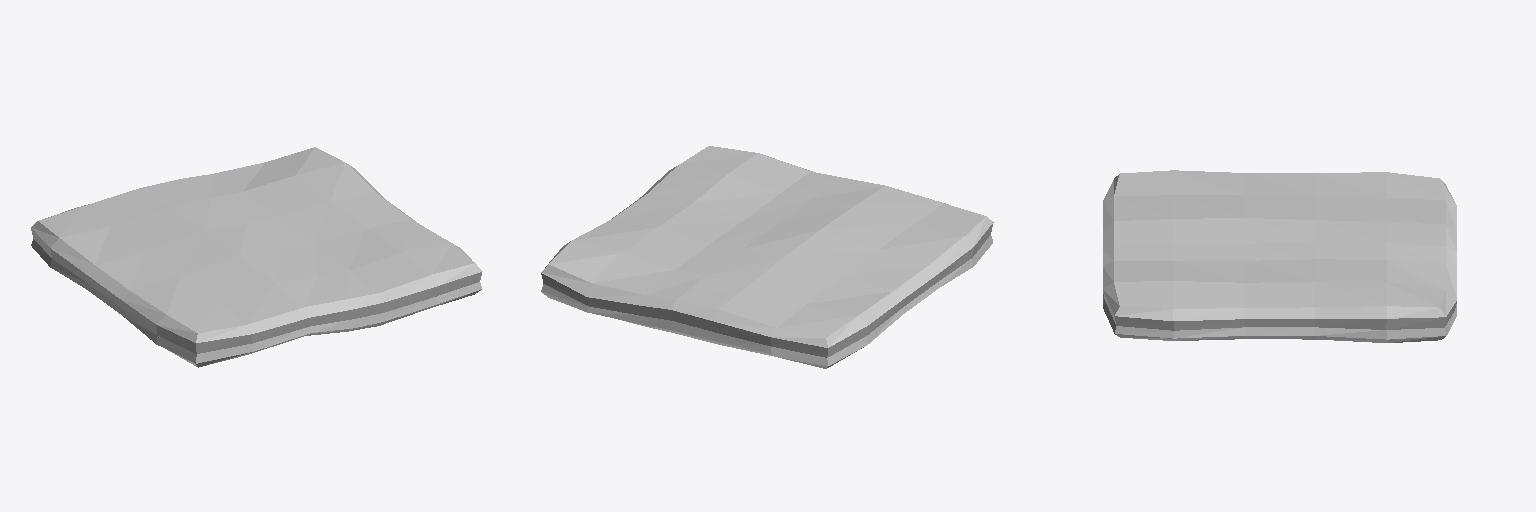
Rendered from platform_4.OBJ.
3 views of the same model, side by side, from view 1: azimuth 30°, elevation 25°; view 2: azimuth 150°, elevation 25°; view 3: azimuth 270°, elevation 25° (orthographic).
Visible parts, largest first — view 1: Group2; view 2: Group2; view 3: Group2.
Part boxes in pixels (bbox=[...]): Group2: bbox=[31, 147, 482, 367]; Group2: bbox=[541, 146, 993, 368]; Group2: bbox=[1103, 170, 1456, 342].
Size of the model in its own units: 4.4 by 0.586 by 4.42.